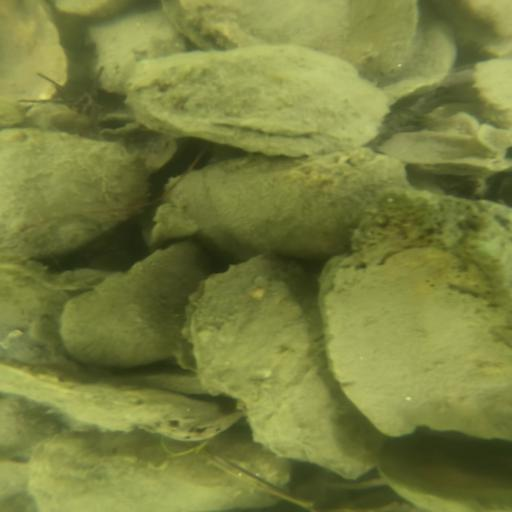Oyster-Closed: (187, 257, 384, 483), (321, 232, 512, 450), (167, 154, 416, 265), (2, 356, 248, 446), (30, 431, 295, 512), (161, 1, 427, 81), (1, 130, 154, 262), (62, 238, 216, 369), (350, 188, 512, 290), (89, 4, 189, 97), (376, 444, 512, 512), (1, 1, 69, 108), (474, 59, 512, 128)
Oyster-Open: (124, 39, 389, 160)
